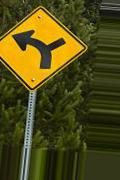left: (2, 7, 88, 91)
